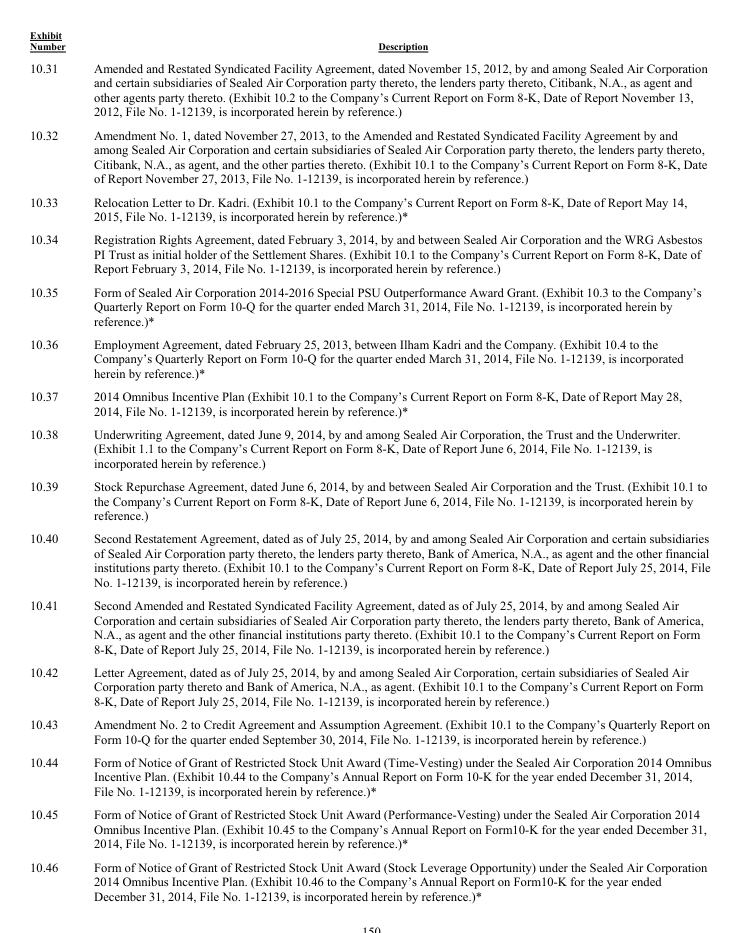table: (29, 28, 710, 902)
table column: (78, 28, 710, 902), (29, 28, 78, 902)
table column header: (29, 28, 710, 56)
table row: (29, 122, 710, 189), (29, 526, 710, 593), (29, 593, 710, 660), (29, 56, 710, 122), (29, 331, 710, 384), (29, 421, 710, 474), (29, 227, 710, 279), (29, 279, 710, 331), (29, 474, 710, 526), (29, 660, 710, 712), (29, 750, 710, 802), (29, 802, 710, 854), (29, 854, 710, 902), (29, 189, 710, 227), (29, 712, 710, 750), (29, 384, 710, 421), (29, 28, 710, 56)
